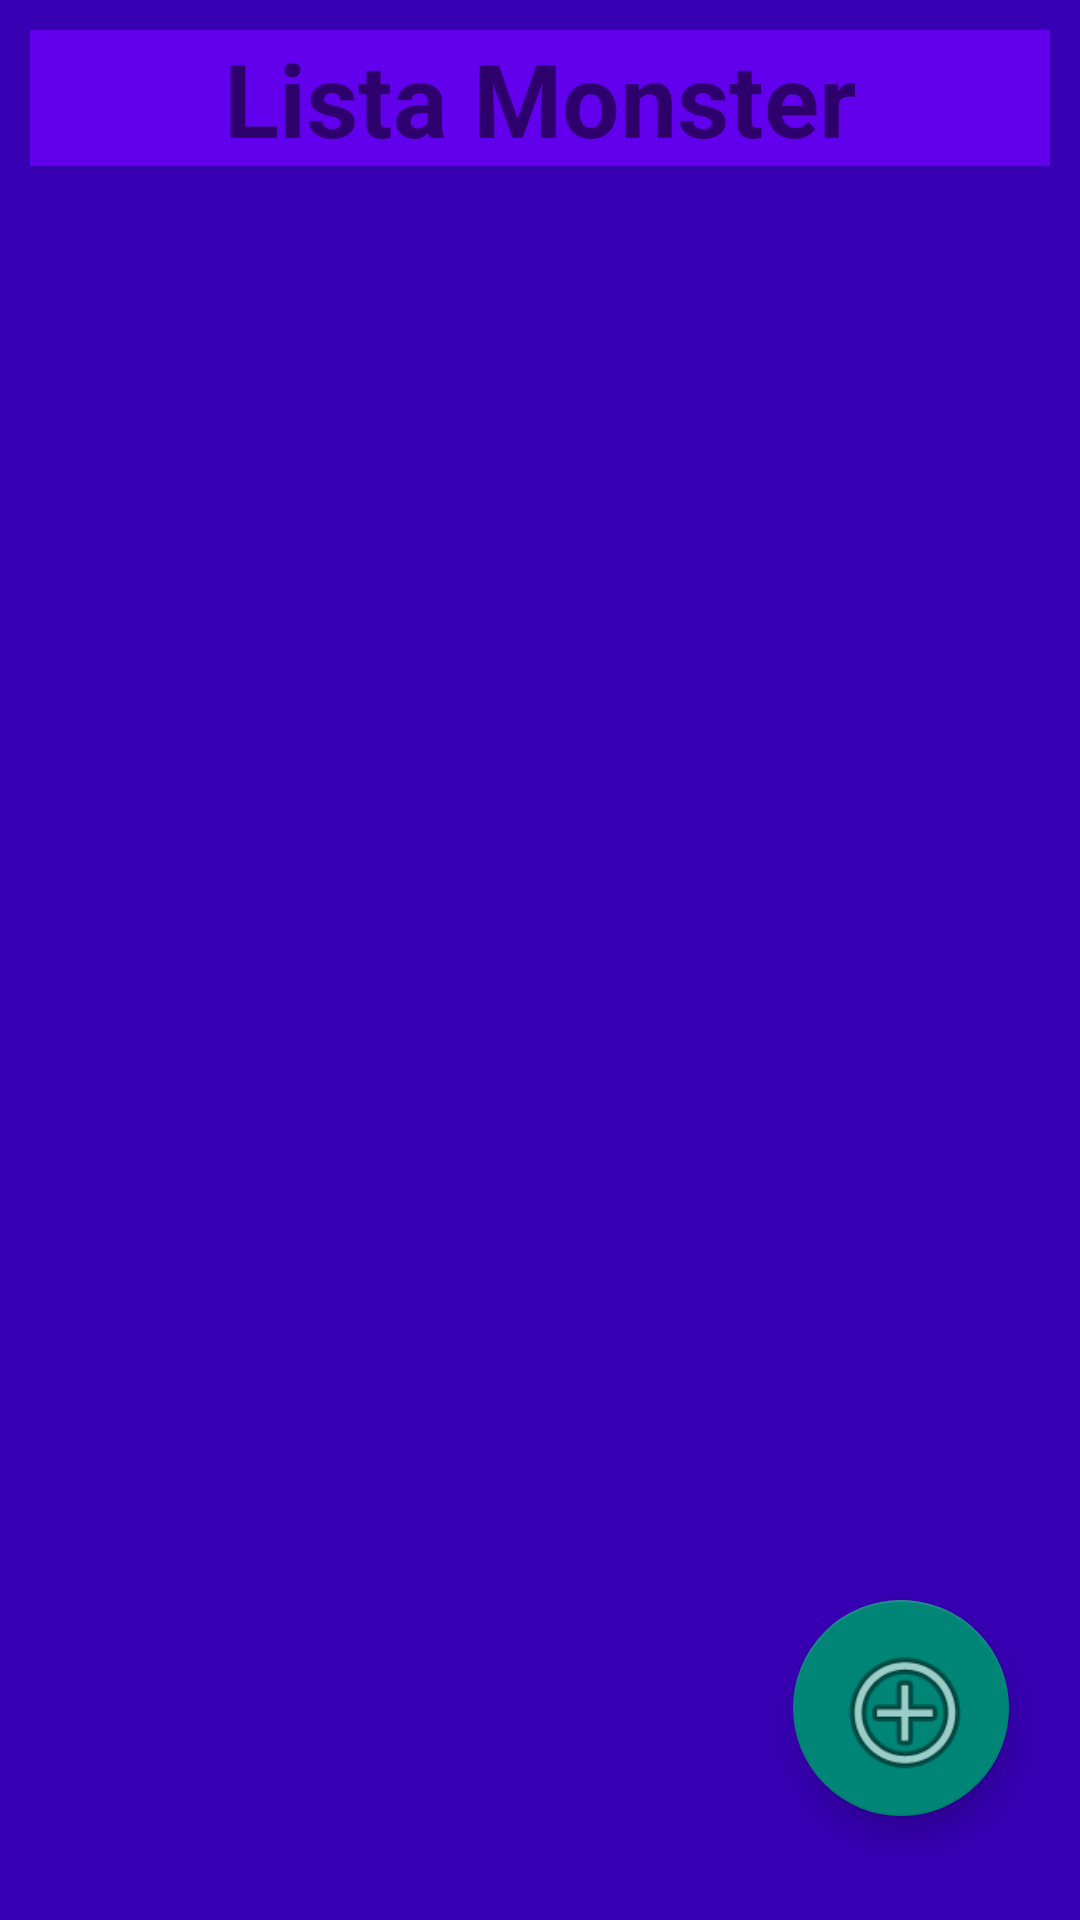

Icons on this 1080×1920 Android screen, each with the point to tap as (x=x, y=y):
add: (x=901, y=1708)
